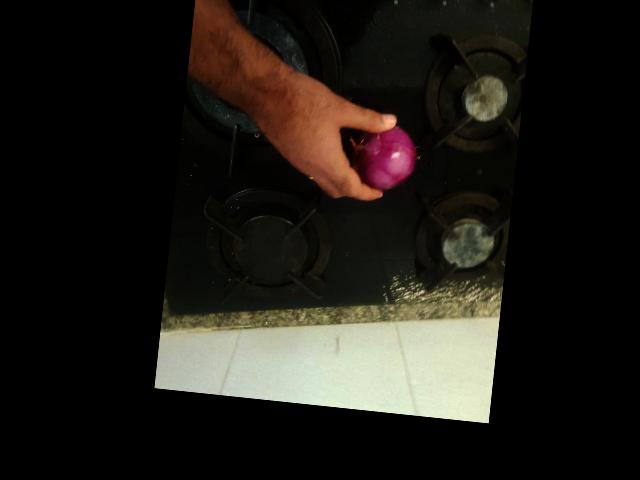onion: (382, 248, 460, 318)
